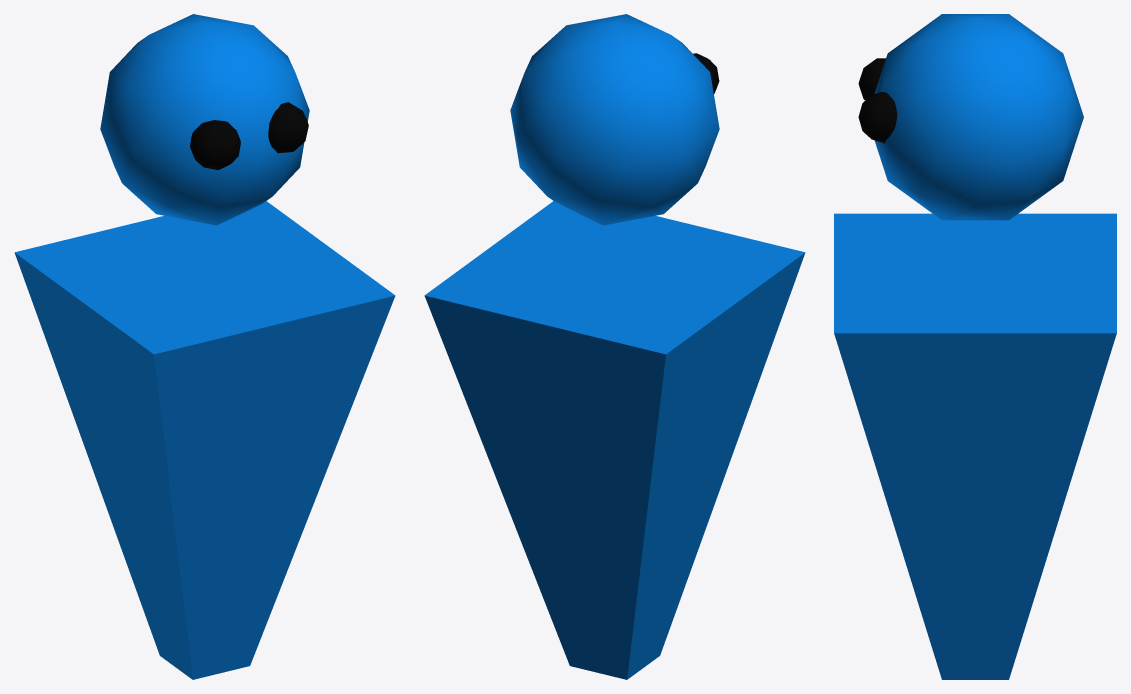
Rendered from Player.fbx.
3 views of the same model, side by side, from view 1: azimuth 30°, elevation 25°; view 2: azimuth 150°, elevation 25°; view 3: azimuth 270°, elevation 25° (orthographic).
Parts seen in each view (by area): view 1: Body, Head, Eyes; view 2: Body, Head; view 3: Body, Head, Eyes.
Part boxes in pixels (bbox=[...]): Body: bbox=[14, 201, 395, 679]; Head: bbox=[100, 14, 309, 225]; Eyes: bbox=[190, 102, 308, 170]; Body: bbox=[424, 201, 805, 679]; Head: bbox=[510, 14, 719, 225]; Body: bbox=[834, 213, 1116, 679]; Head: bbox=[874, 14, 1083, 220]; Eyes: bbox=[858, 58, 897, 143].
Bounding box in the file's own units: 131 × 330 × 131.
